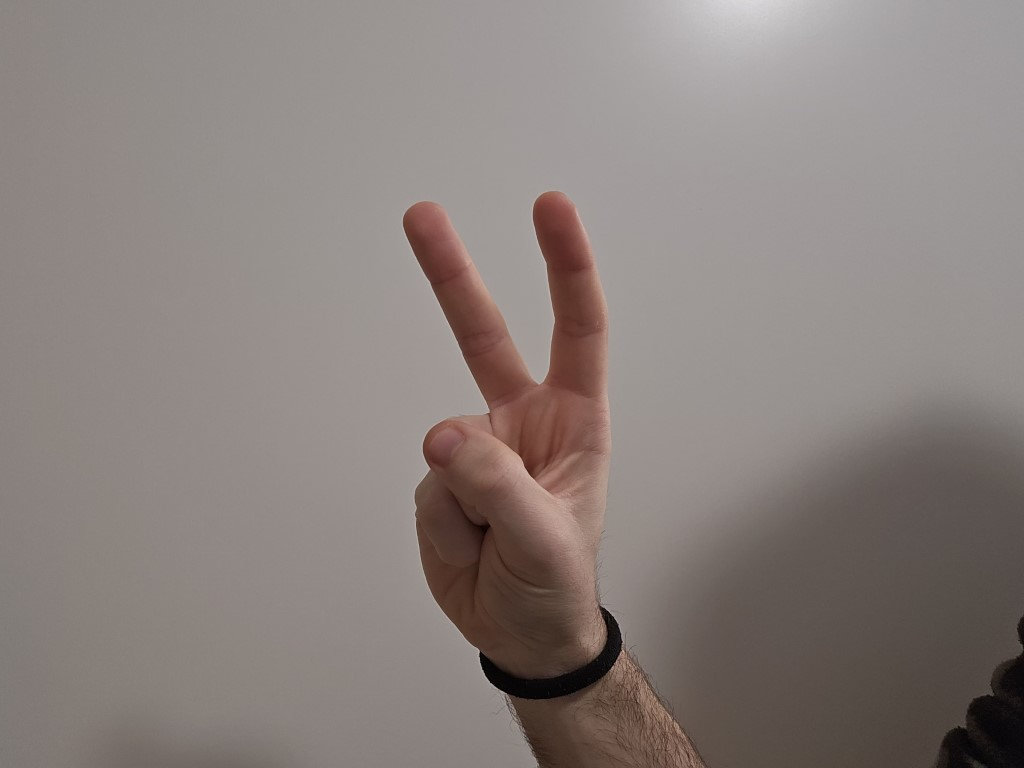v: (329, 166, 661, 653)
